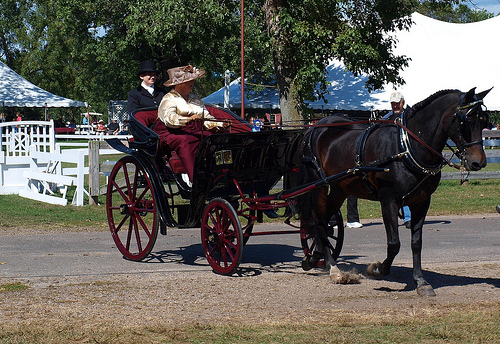horse: (286, 87, 492, 299)
